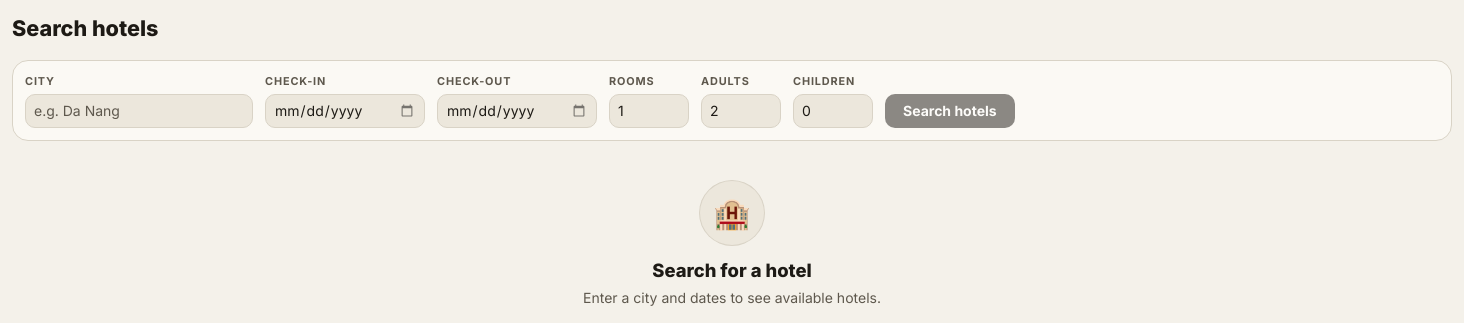
Scenario: HotelsPage › searches and lists results, with no booking control on the page
The image size is (1464, 323).
Type "Da Nang" into the field labelled "City" at (139, 111), box [25,94,253,128]
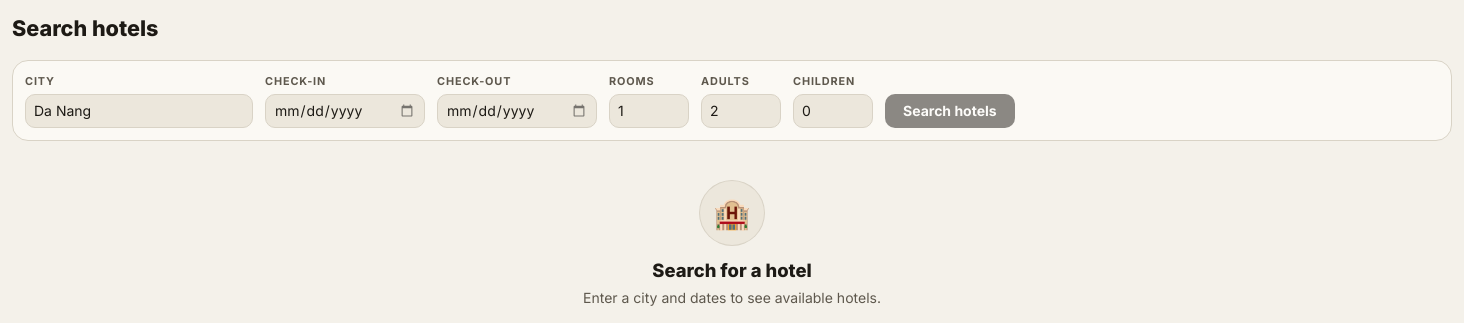
Type "2026-06-01" into the date field labelled "Check-in" at (345, 111), box [265,94,425,128]
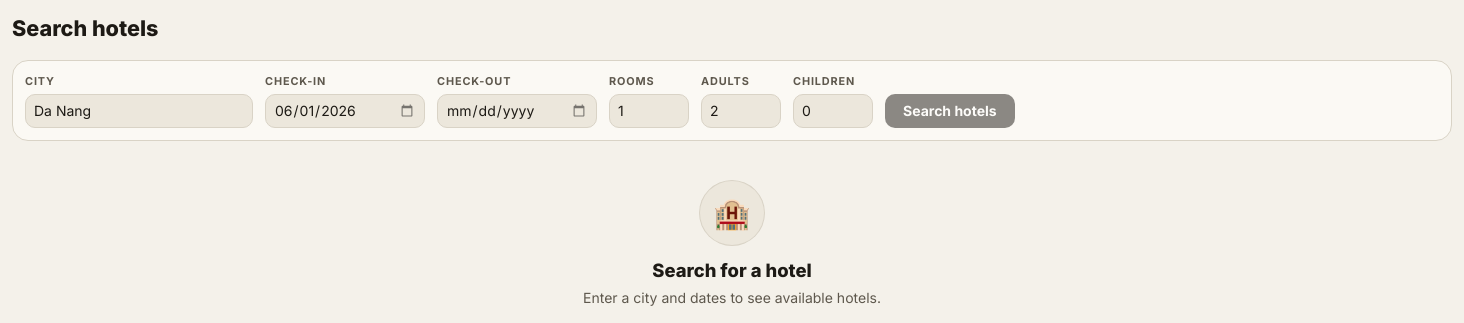
Type "2026-06-03" into the date field labelled "Check-out" at (517, 111), box [437,94,597,128]
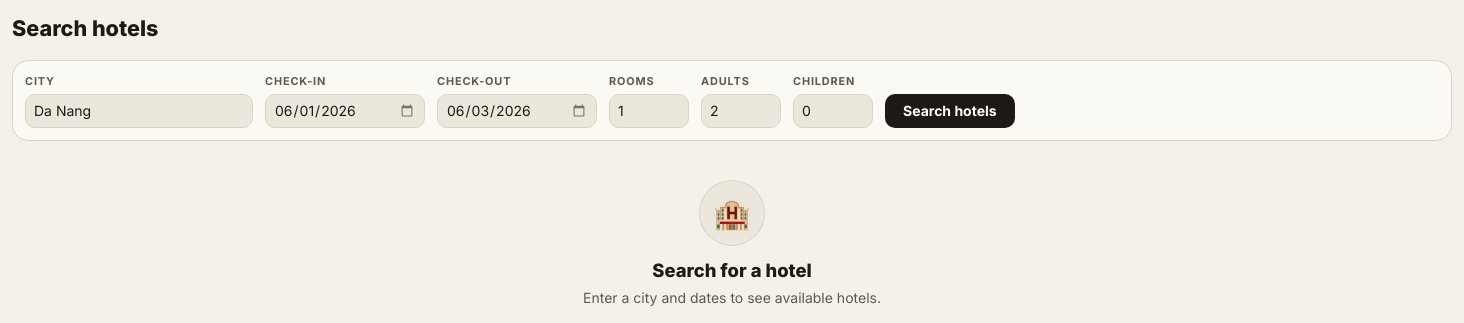
Click the button "Search hotels" at (950, 111), box [885,94,1015,128]
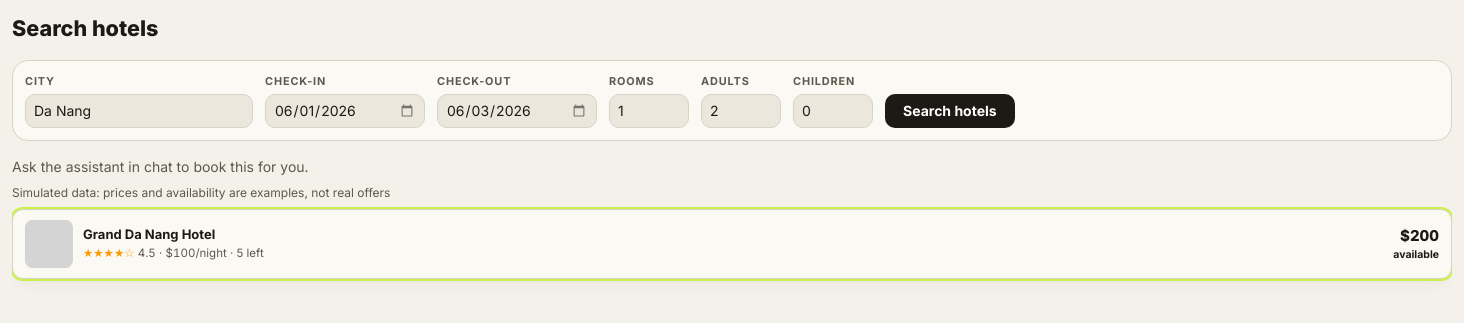
Expected: the text "Grand Da Nang Hotel" is shown, [83,226,215,242]
Expected: the text "Ask the assistant in chat to book this for you." is shown, [12,158,309,175]
Expected: the text "Simulated data: prices and availability are examples, not real offers" is shown, [12,185,390,200]
